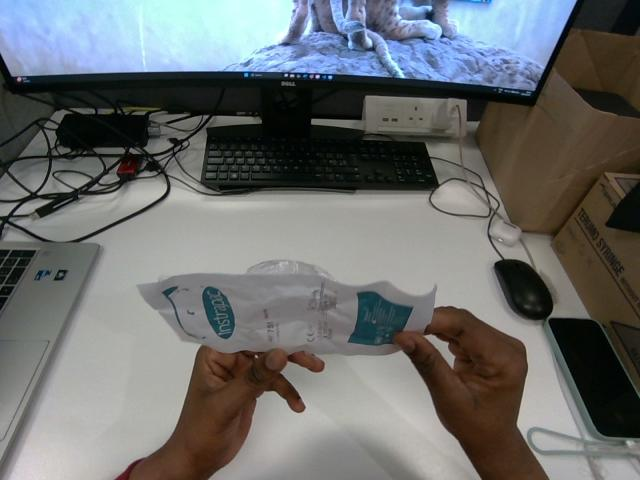gallipot: (138, 273, 435, 354)
